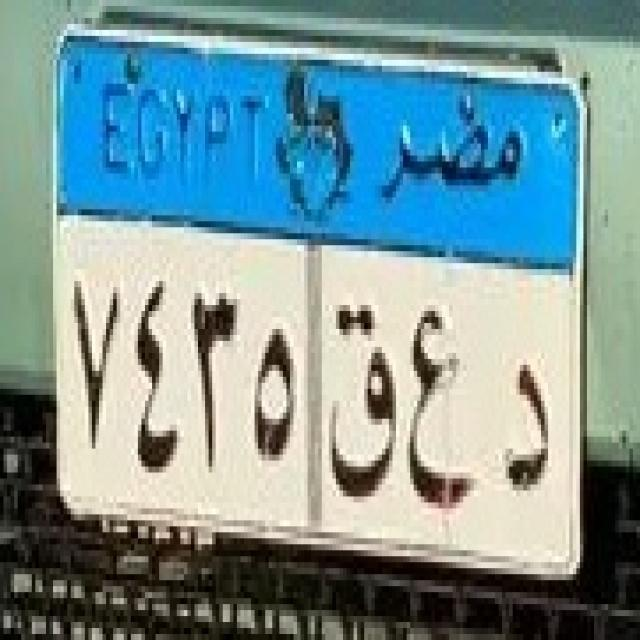3: (184, 270, 242, 487)
4: (127, 273, 179, 477)
5: (246, 316, 302, 469)
7: (62, 274, 125, 456)
Een: (404, 304, 481, 526)
Taa: (322, 288, 406, 510)
daal: (494, 349, 560, 501)
